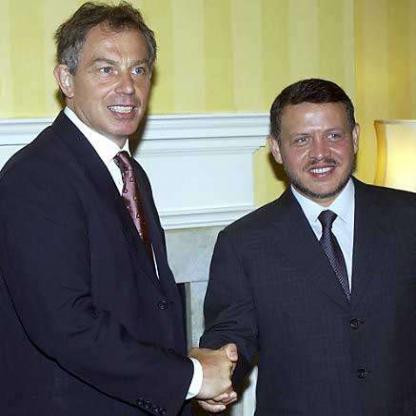face: (74, 8, 158, 143), (279, 80, 355, 198)
